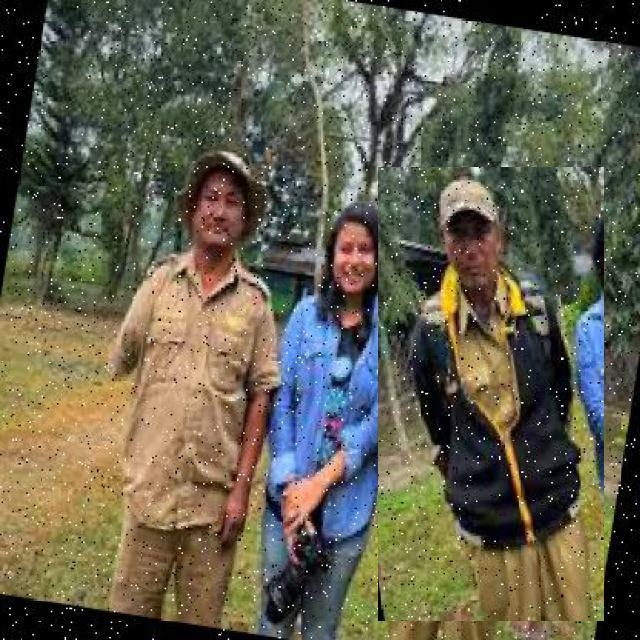Hunter: (378, 168, 604, 622), (93, 142, 290, 578)
